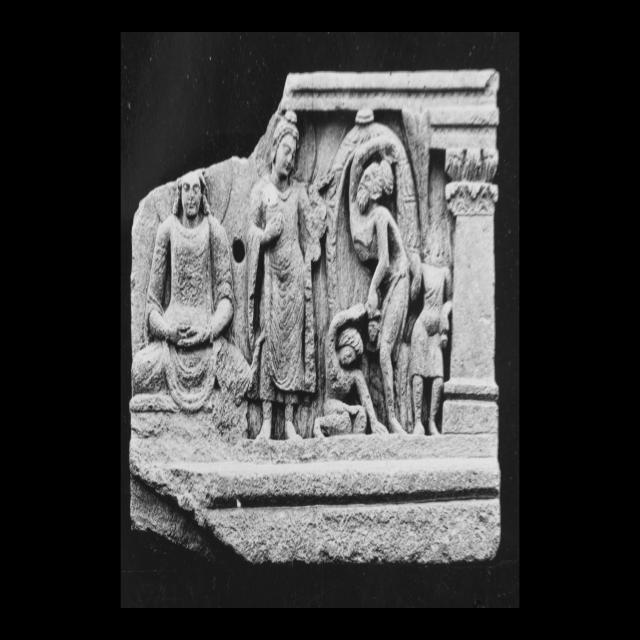buddha-standing: (248, 109, 326, 437)
